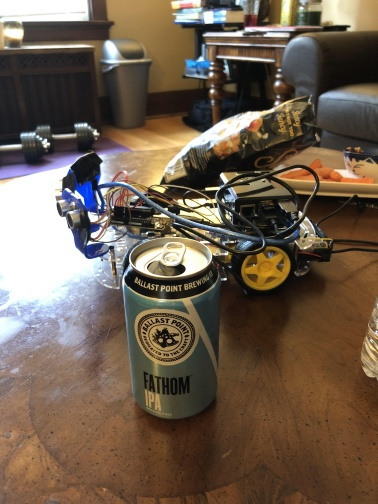bottle: (342, 264, 378, 385)
can: (117, 235, 225, 424)
